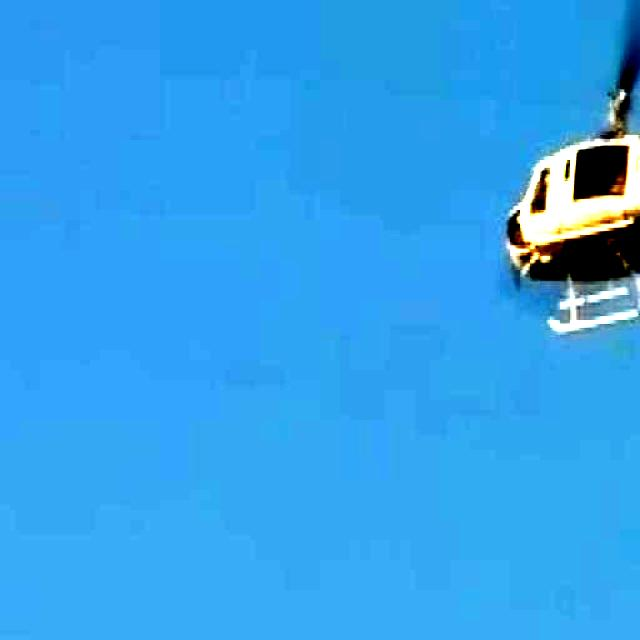drone: (498, 0, 640, 340)
